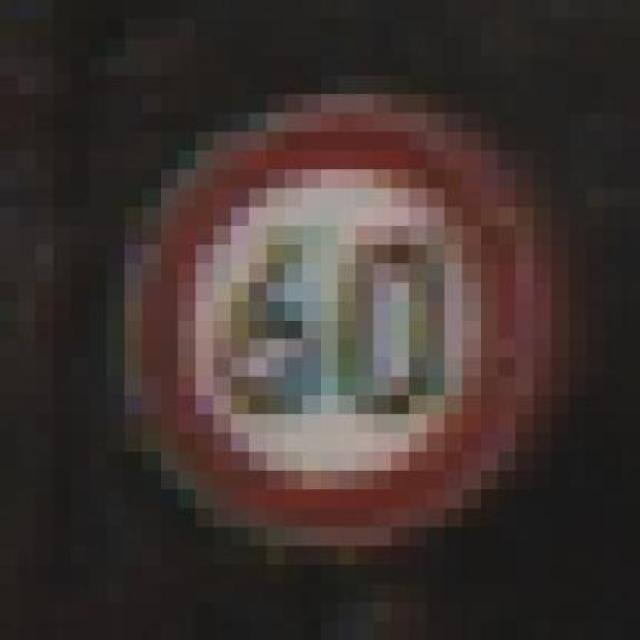forb_speed_over_60: (139, 115, 519, 530)
